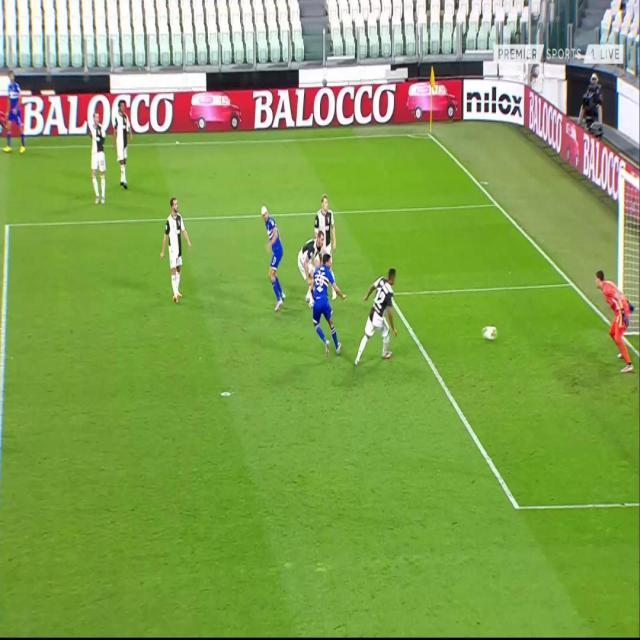ball: (481, 321, 497, 340)
goalkeeper: (595, 265, 636, 374)
player: (353, 265, 399, 372), (310, 249, 342, 361), (161, 191, 190, 303), (259, 201, 287, 310), (2, 65, 26, 157), (88, 113, 107, 207), (114, 103, 131, 190), (312, 191, 337, 250), (298, 230, 326, 269)
